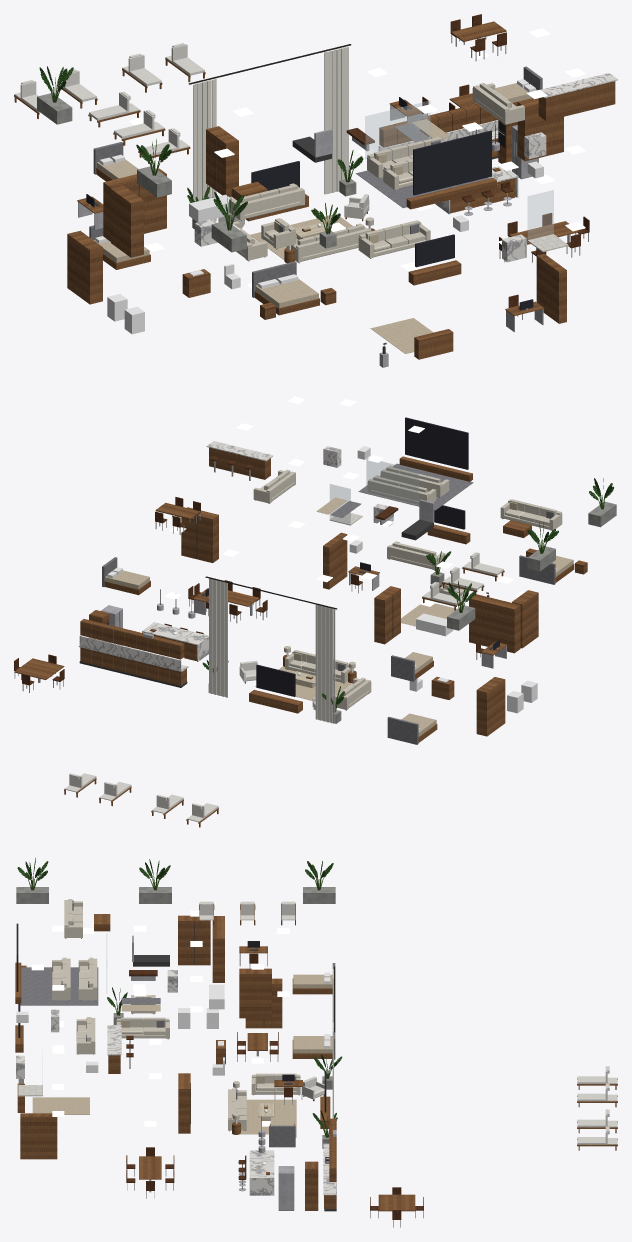
Rendered from LuxuryVilla_Interior.glb.
3 renders of one model, top to bottom at view 1: azimuth 30°, elevation 25°; view 2: azimuth 150°, elevation 25°; view 3: azimuth 270°, elevation 25°, orthographic. The views are drawn at different scales.
Visible parts, largest first — view 1: Curtains, TV_Media, Bar, Mirror_Gym, Bed_Master, LightFixtures, KitchenCabinets, Wardrobe_Guest, Wardrobe_Master2, Wardrobe_A, TV_Lounge, Bookshelf_Study (+48 smaller); view 2: KitchenCabinets, Curtains, TV_Media, Wardrobe_Master, Mirror_Gym, LightFixtures, Wardrobe_B, TVConsole, Bar, Wardrobe_Guest, Wardrobe_A, Sofa_TerraceW (+18 smaller); view 3: LightFixtures, Rug_Media, Bookshelf_Study, Wardrobe_A, Wardrobe_Master2, Island, Rug_Living, KitchenCabinets, Sofa_Sky, Bed_Guest, Rug_Foyer, Bed_A (+19 smaller).
Part boxes in pixels (x1=…): Curtains: x1=188, y1=44, x2=351, y2=221; TV_Media: x1=406, y1=130, x2=496, y2=209; Bar: x1=538, y1=73, x2=617, y2=120; Mirror_Gym: x1=365, y1=100, x2=430, y2=158; Bed_Master: x1=252, y1=261, x2=319, y2=315; LightFixtures: x1=129, y1=28, x2=585, y2=288; KitchenCabinets: x1=378, y1=104, x2=498, y2=159; Wardrobe_Guest: x1=67, y1=230, x2=102, y2=304; Wardrobe_Master2: x1=111, y1=186, x2=143, y2=257; Wardrobe_A: x1=206, y1=126, x2=238, y2=197; TV_Lounge: x1=408, y1=234, x2=461, y2=285; Bookshelf_Study: x1=536, y1=253, x2=566, y2=323; KitchenCabinets: x1=78, y1=619, x2=188, y2=687; Curtains: x1=205, y1=576, x2=337, y2=723; TV_Media: x1=399, y1=417, x2=472, y2=481; Wardrobe_Master: x1=469, y1=594, x2=520, y2=653; Mirror_Gym: x1=366, y1=458, x2=418, y2=504; LightFixtures: x1=157, y1=396, x2=526, y2=667; Wardrobe_B: x1=181, y1=507, x2=218, y2=562; TVConsole: x1=249, y1=664, x2=302, y2=713; Bar: x1=206, y1=441, x2=273, y2=479; Wardrobe_Guest: x1=476, y1=677, x2=505, y2=736; Wardrobe_A: x1=374, y1=586, x2=400, y2=644; Sofa_TerraceW: x1=500, y1=499, x2=562, y2=530; LightFixtures: x1=31, y1=910, x2=289, y2=1152; Rug_Media: x1=20, y1=967, x2=98, y2=1005; Bookshelf_Study: x1=20, y1=1113, x2=57, y2=1159; Wardrobe_A: x1=239, y1=968, x2=271, y2=1018; Wardrobe_Master2: x1=178, y1=915, x2=210, y2=965; Island: x1=249, y1=1150, x2=274, y2=1195; Rug_Living: x1=240, y1=1099, x2=296, y2=1134; KitchenCabinets: x1=323, y1=1118, x2=336, y2=1211; Sofa_Sky: x1=116, y1=1017, x2=169, y2=1039; Bed_Guest: x1=292, y1=1032, x2=335, y2=1059; Rug_Foyer: x1=32, y1=1097, x2=89, y2=1114; Bed_A: x1=292, y1=963, x2=335, y2=994.
Bounding box in the file's own units: 24.2 × 9.95 × 29.52.
Materials: 20 (15 with a texture image).
